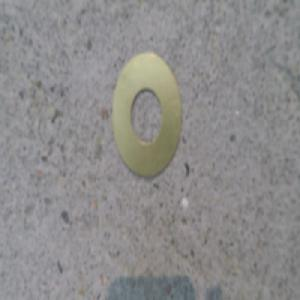Washer: (109, 53, 183, 184)
